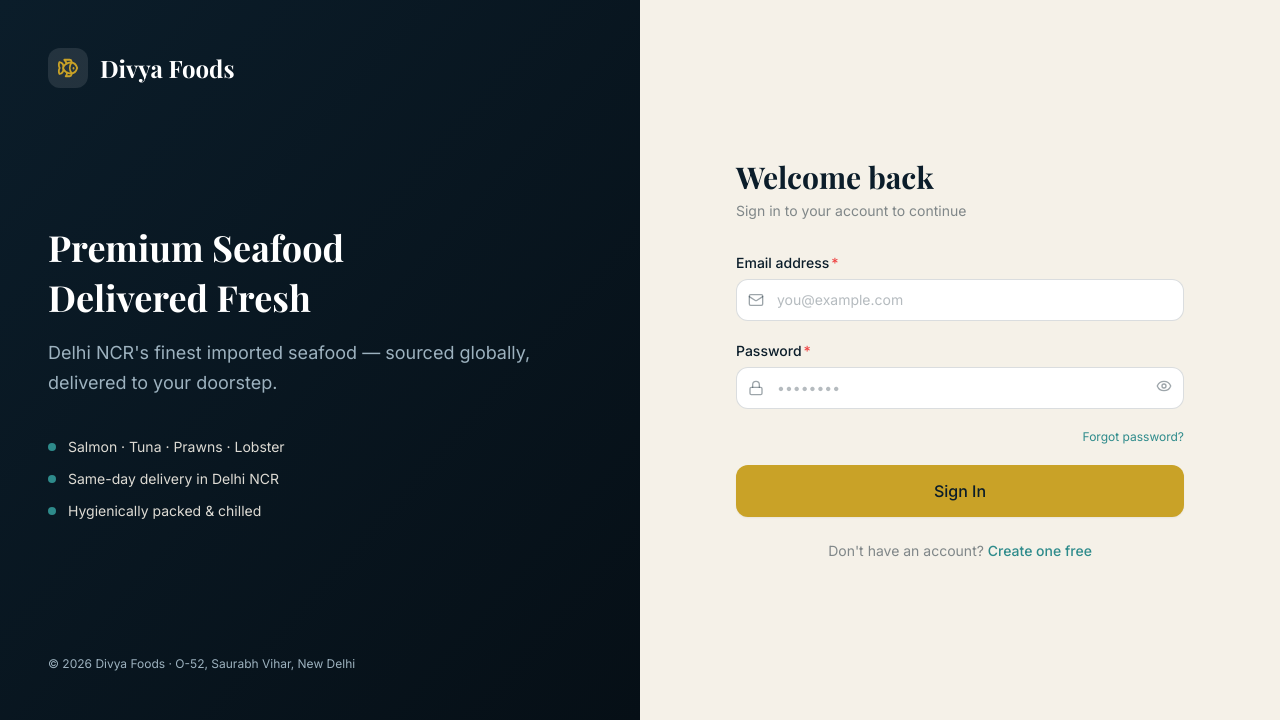
Test case: LoginPage › rejects an invalid email format
Type "not-an-email" into the field labelled "Email address*" at (960, 300), box [736, 279, 1184, 321]
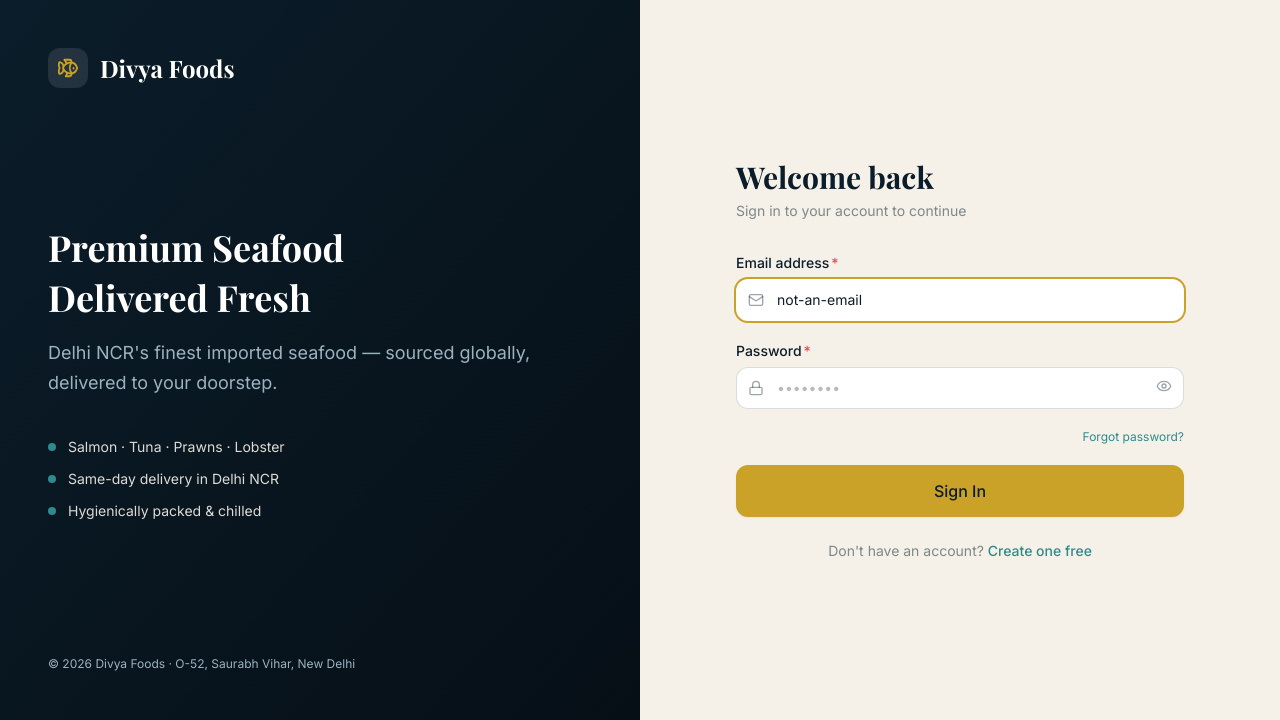
Type "password123" into the password field labelled "Password*" at (960, 388), box [736, 367, 1184, 409]
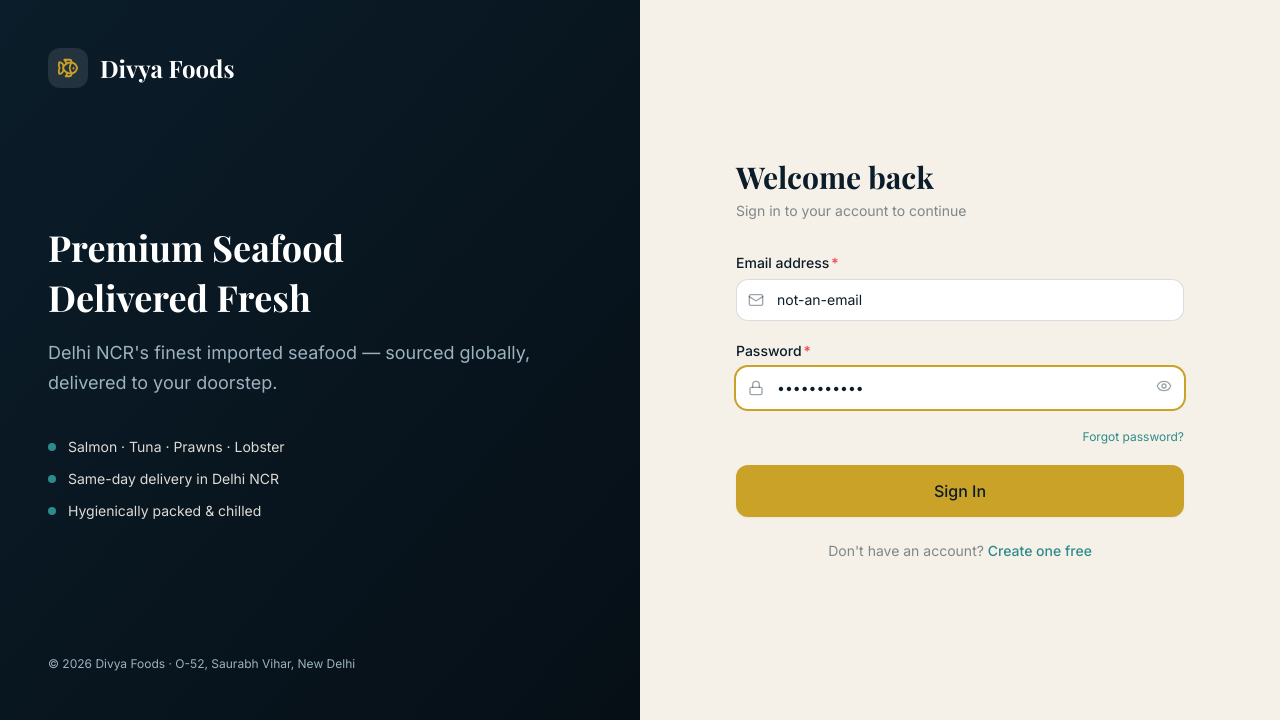
Click the button "Sign In" at (960, 491), box [736, 465, 1184, 517]
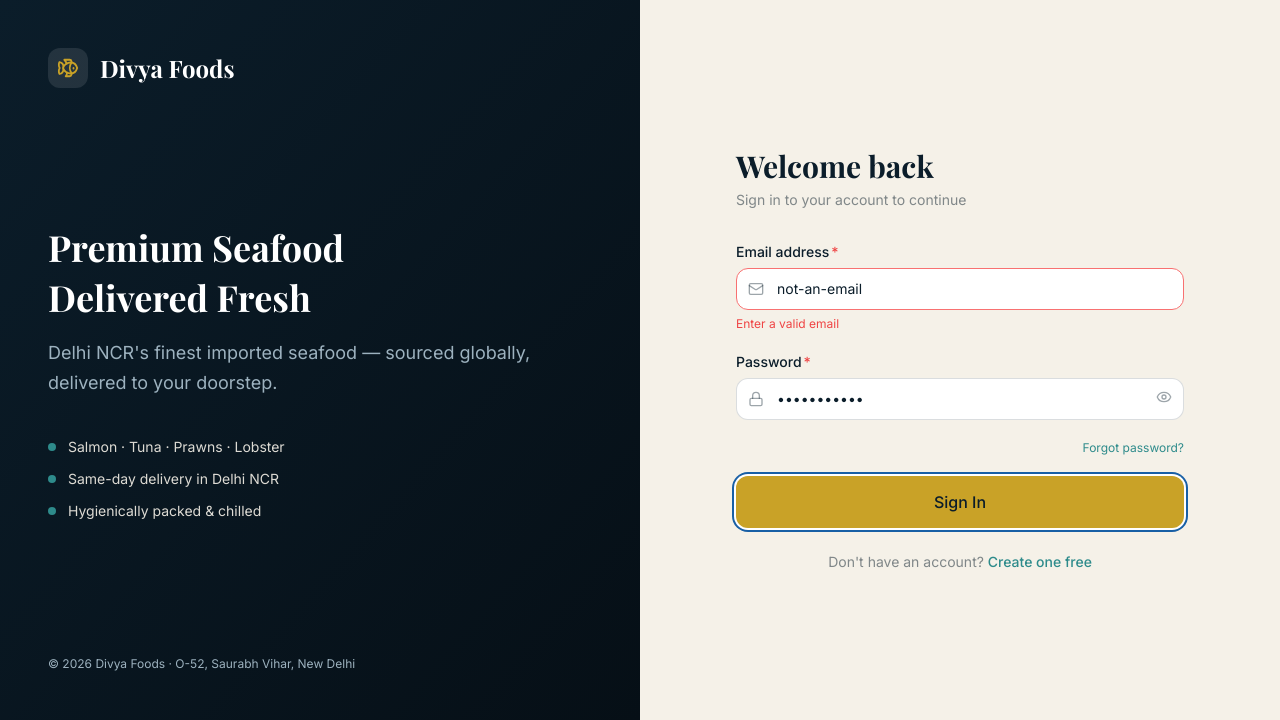
Expected: the text "Enter a valid email" is shown, [736, 316, 839, 331]
